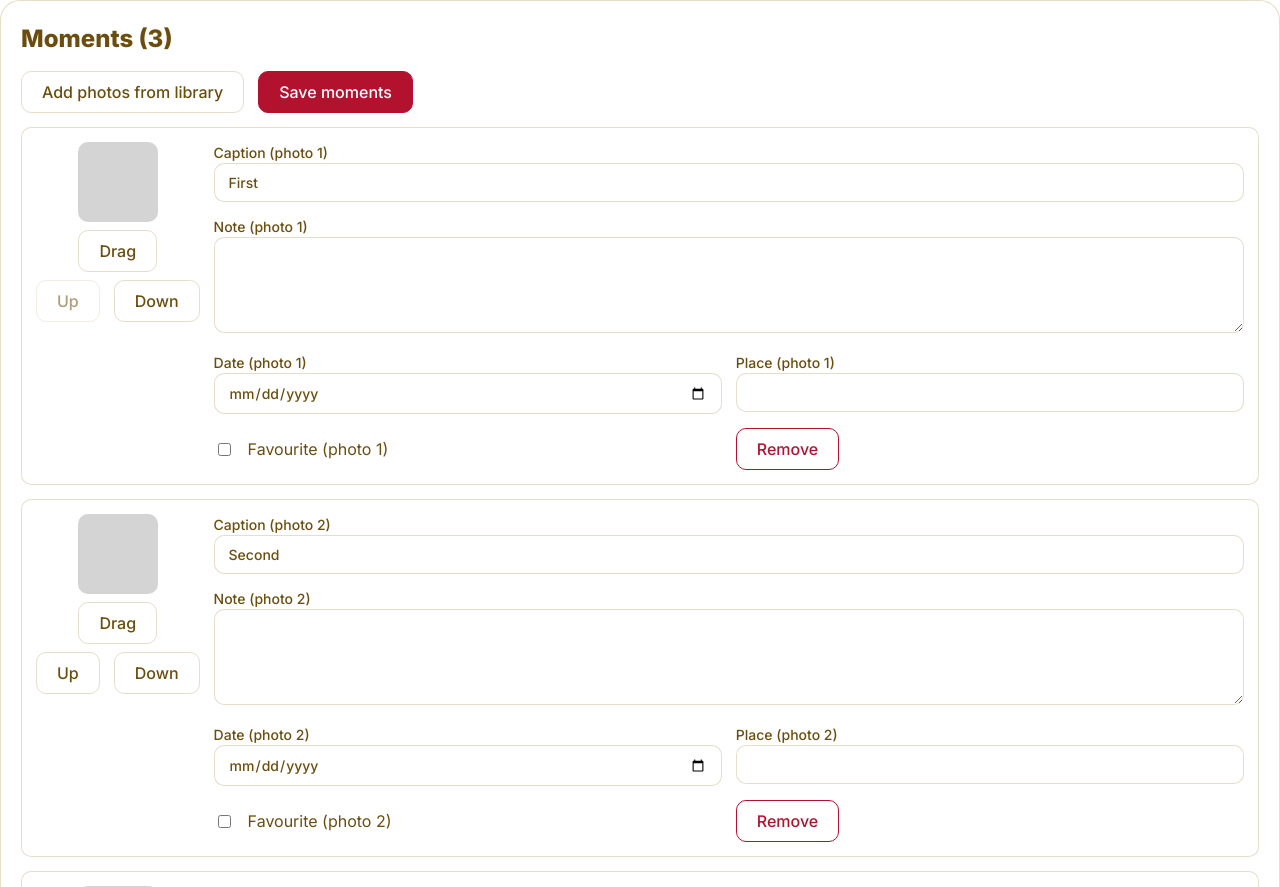
MomentsEditor › saves the reordered list in display order with edited fields
This screenshot has width=1280, height=887.
expect the field labelled "Caption (photo 1)" is shown: met, box [214,163,1244,202]
Click the button with aria-label "Move down (photo 1)" at (157, 301), box [114,280,200,322]
(page scrolled)
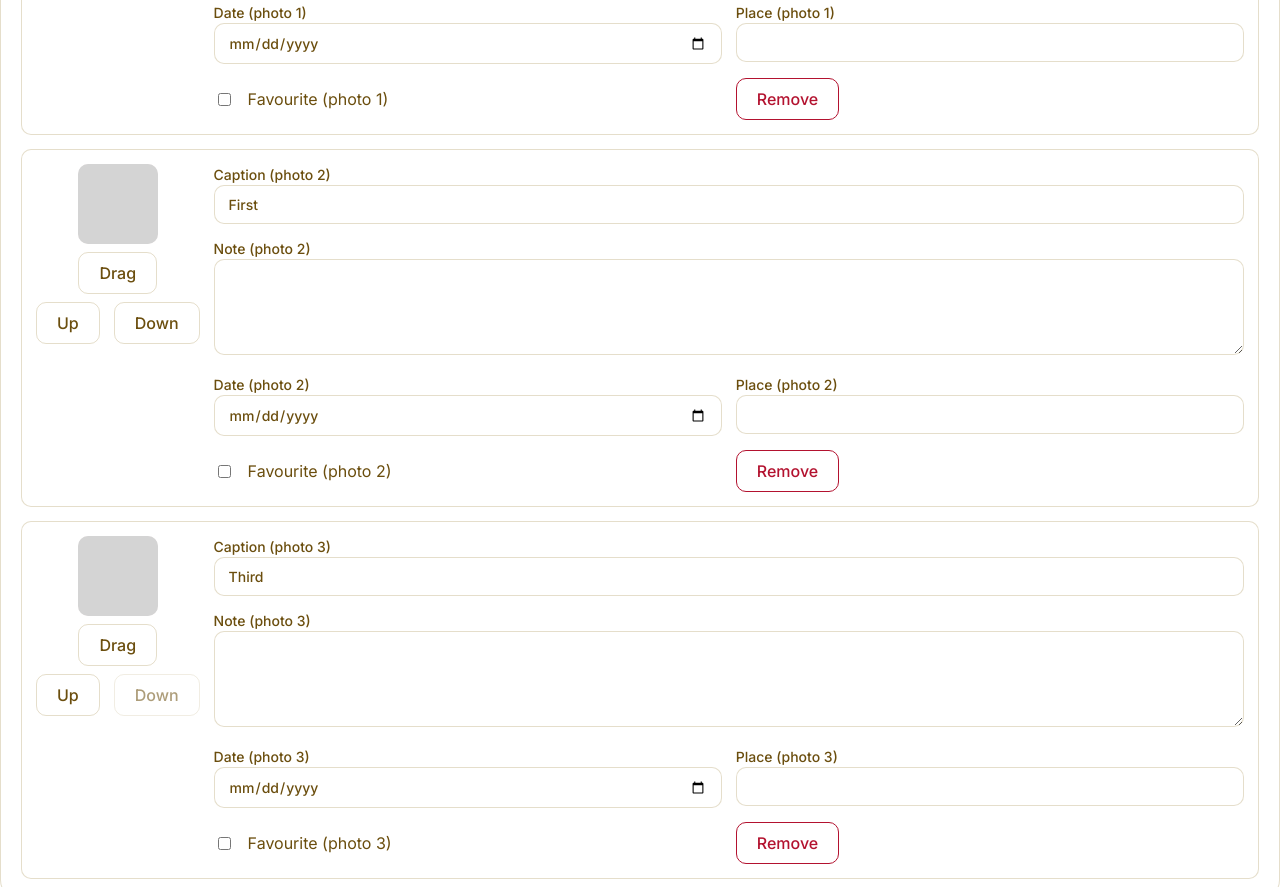
Click the button with aria-label "Move up (photo 3)" at (68, 695), box [36,674,100,716]
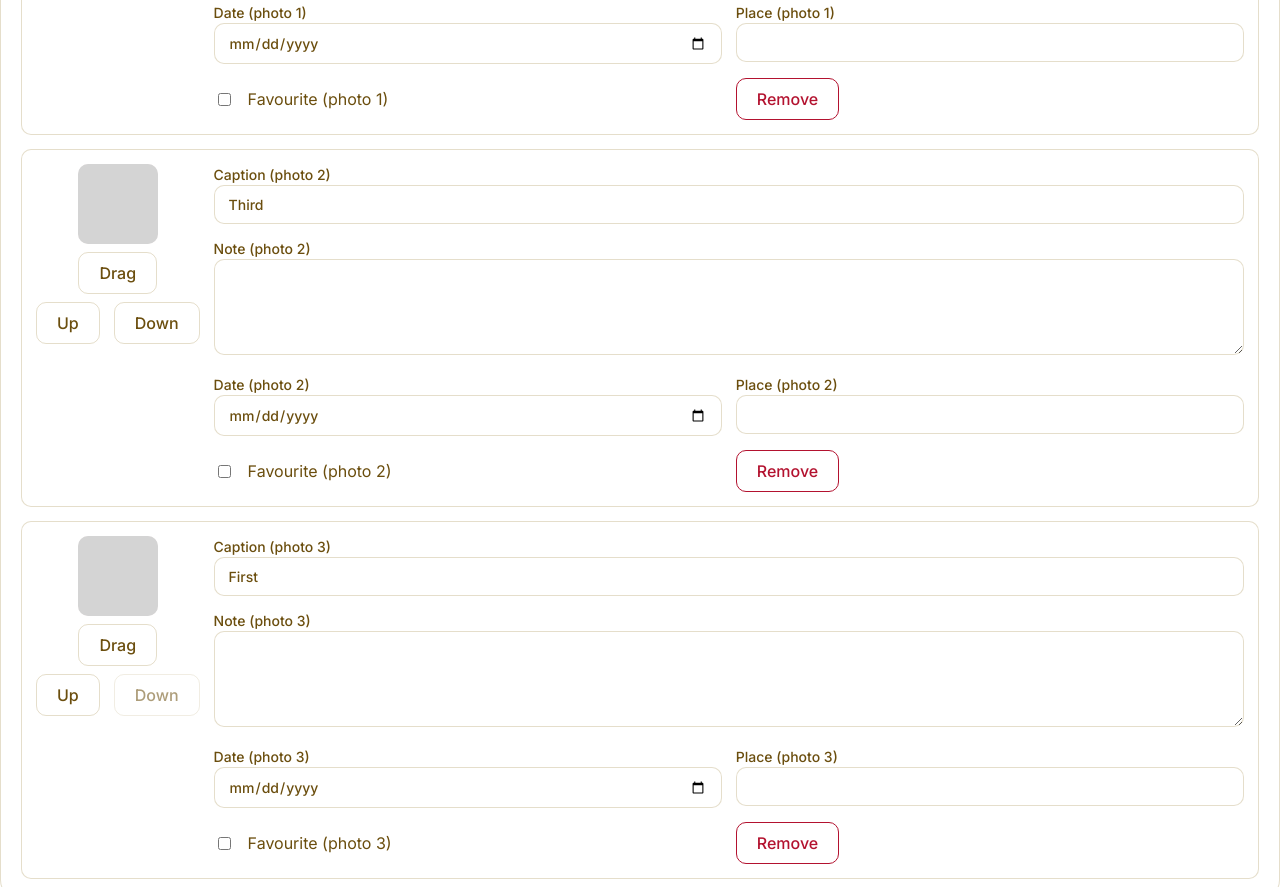
Type "Goa" into the field labelled "Place (photo 1)" at (990, 42), box [736,23,1244,62]
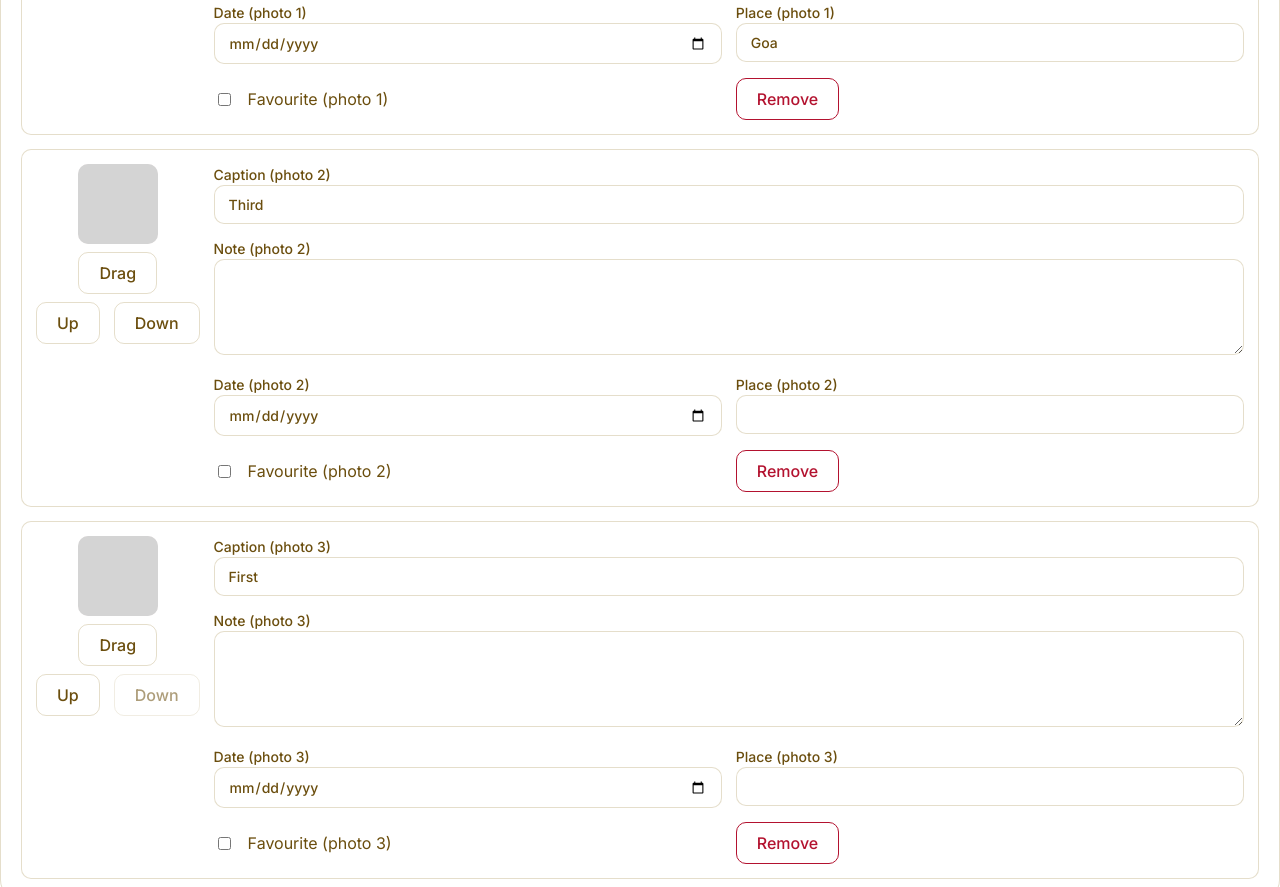
Click the checkbox labelled "Favourite (photo 1)" at (224, 99), box [218,92,231,106]
(page scrolled)
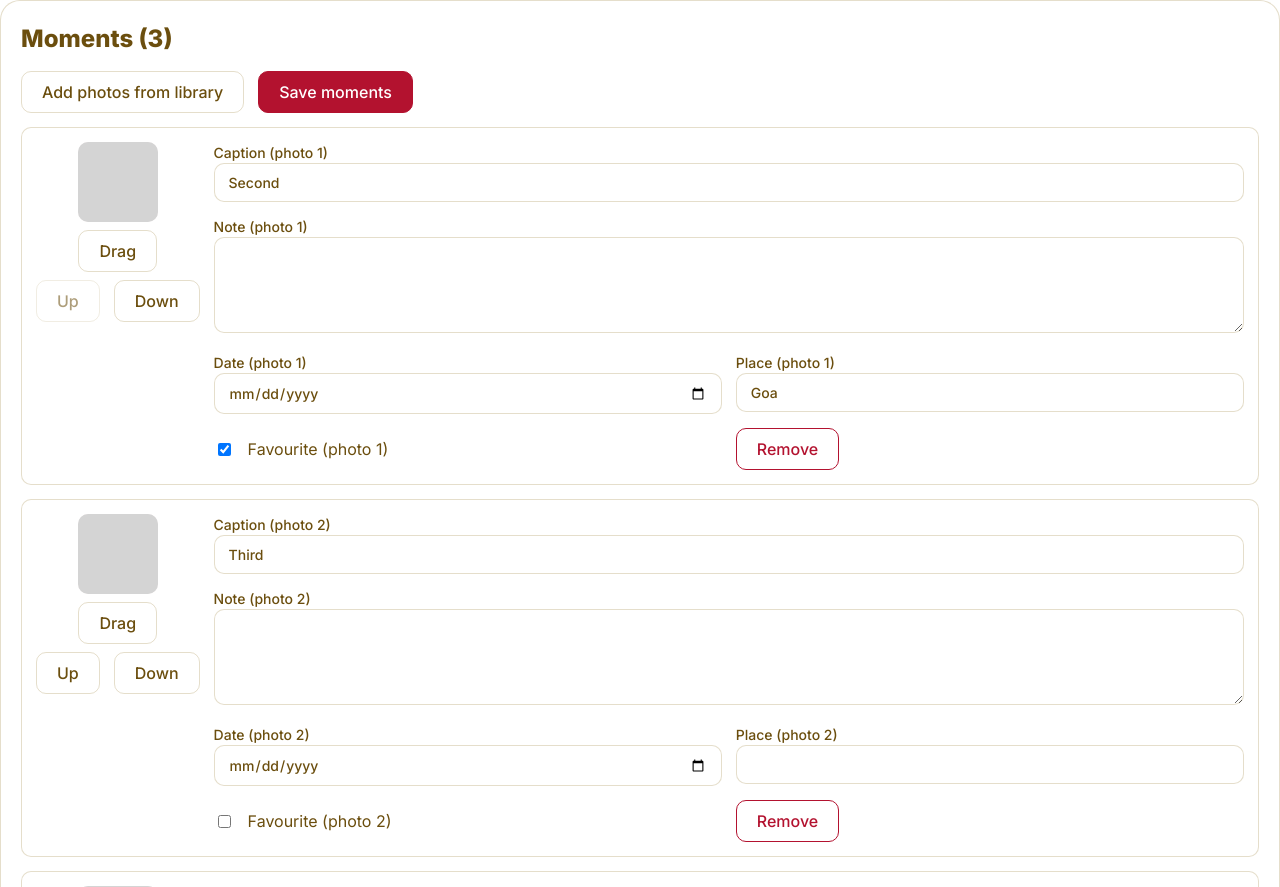
Click the button "Save moments" at (336, 92), box [258,71,413,113]
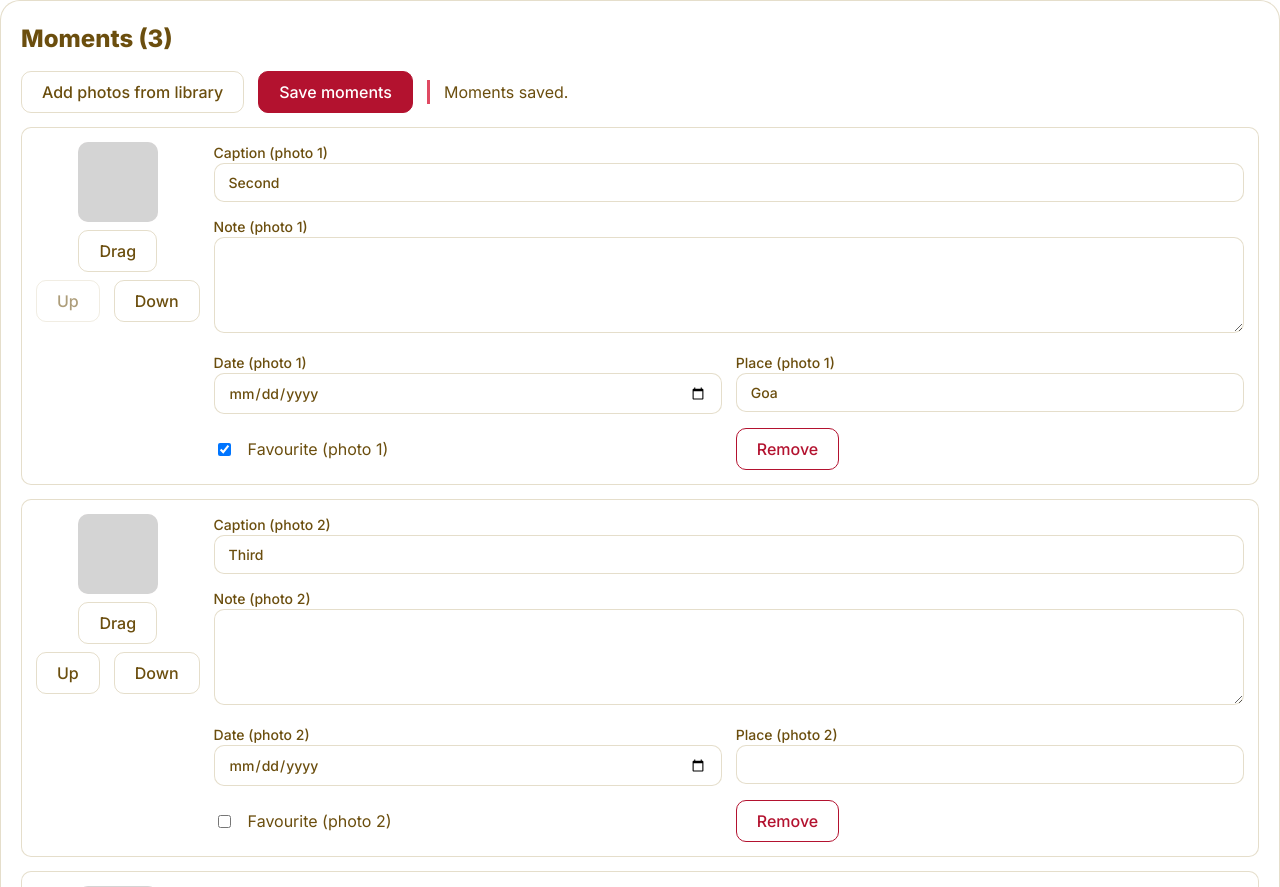
expect the text "Moments saved." is shown: met, box [427,80,568,104]
